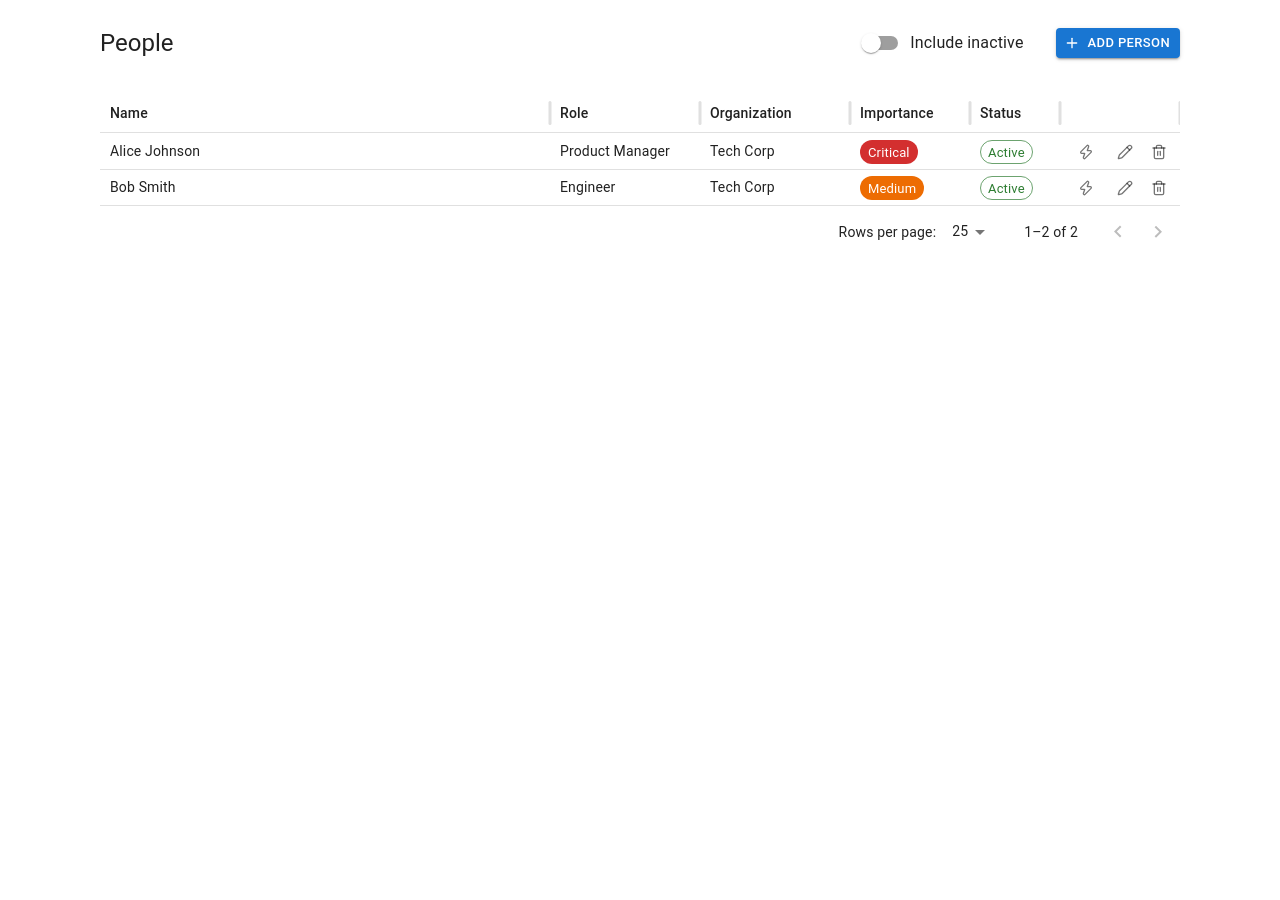
People view › opens edit dialog when Edit button is clicked
What coordinates should you click on to do the following:
click the button named "Edit" in the row of "Alice Johnson"
I would click on:
 (1125, 152)
Its box is [1112,138,1138,164].
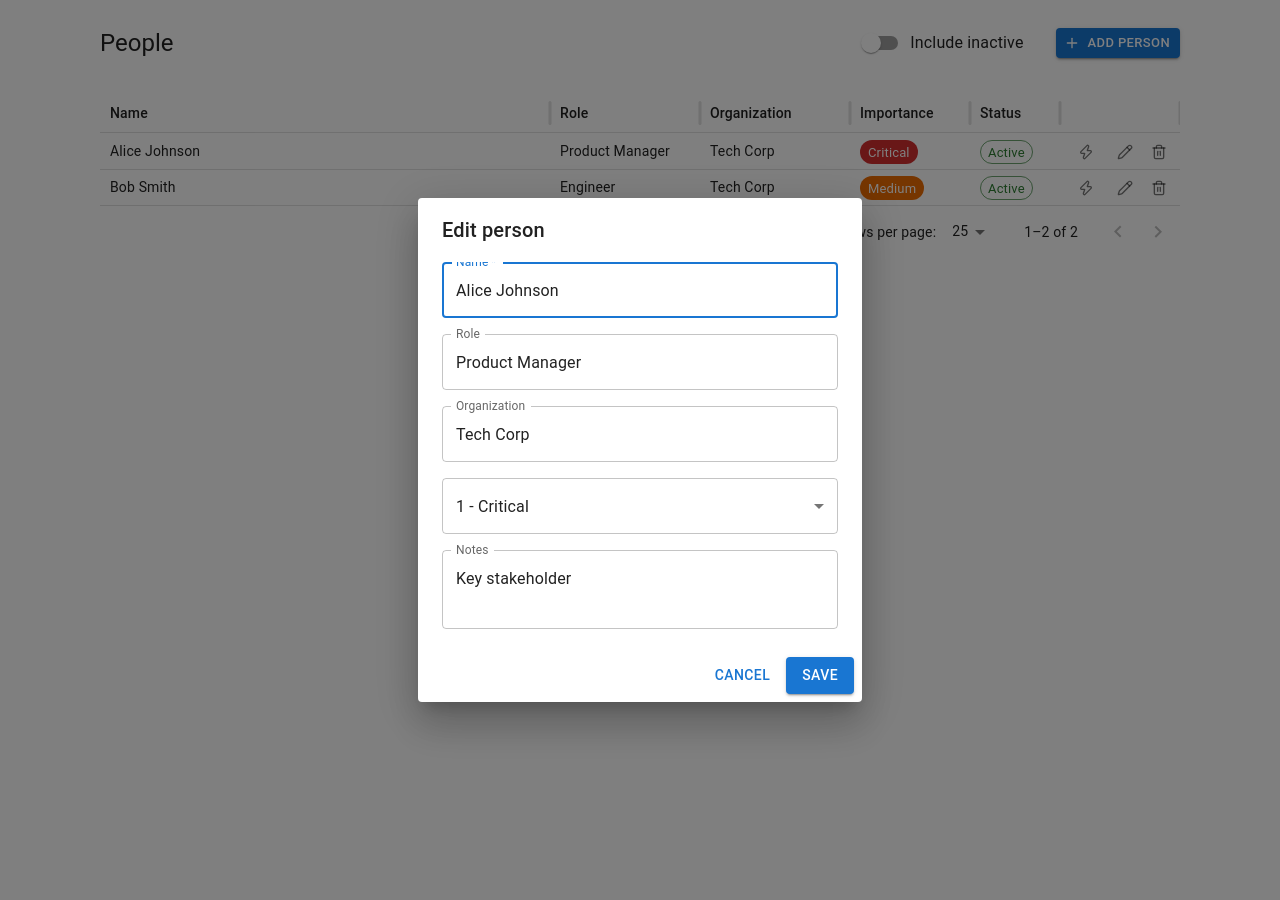
expect the heading "Edit person" is shown: met, box [442,218,545,242]
